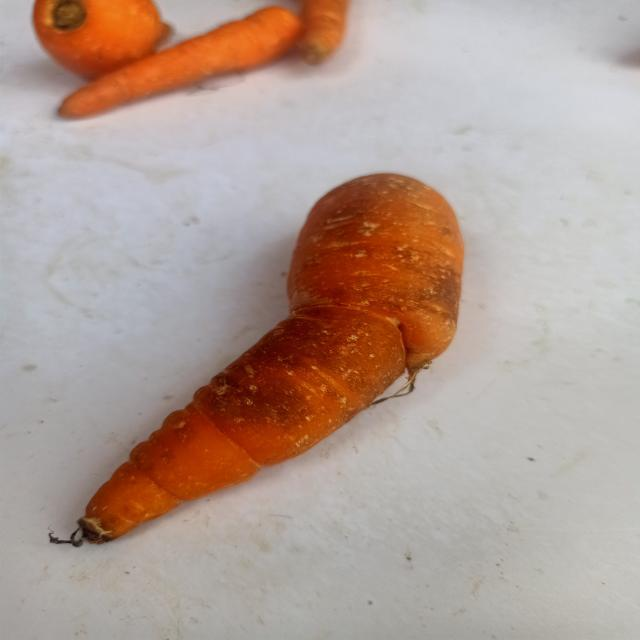Carrot: (36, 154, 495, 575)
